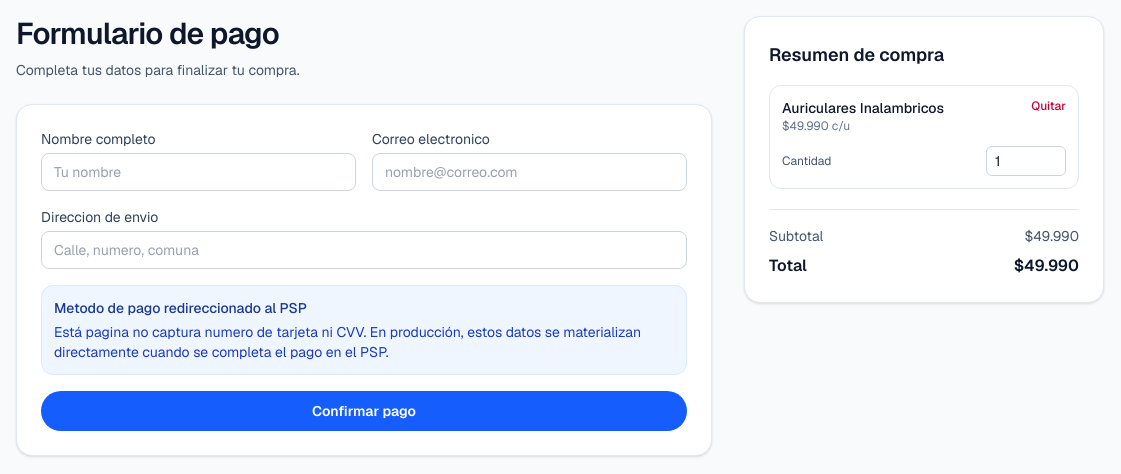
Test case: Checkout quantity input behavior › muestra total validado por servidor y limpia carrito tras confirmar pago
Type "Ada Lovelace" into the field labelled "Nombre completo".
click(198, 172); type("Ada Lovelace")  # box [41,153,356,191]
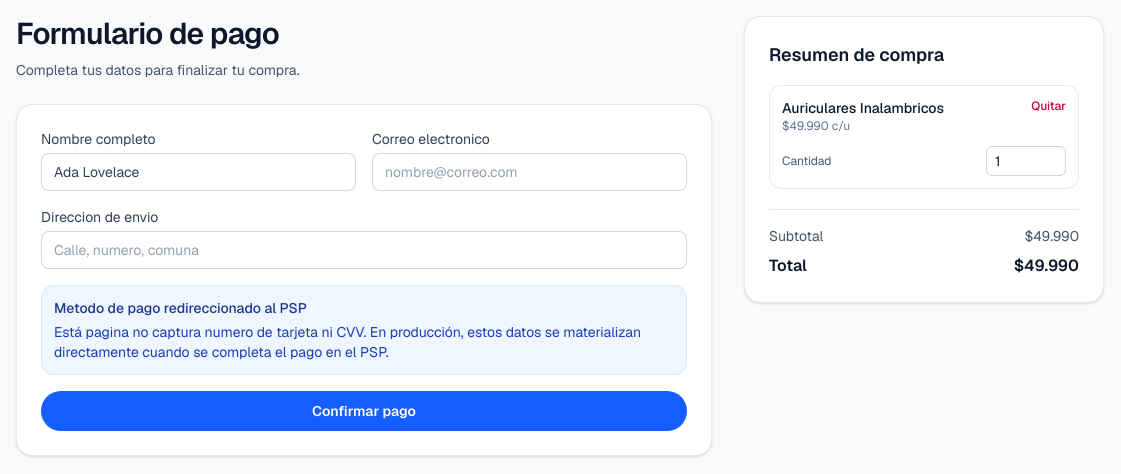
Type "ada@example.com" into the field labelled "Correo electronico".
click(530, 172); type("ada@example.com")  # box [372,153,687,191]
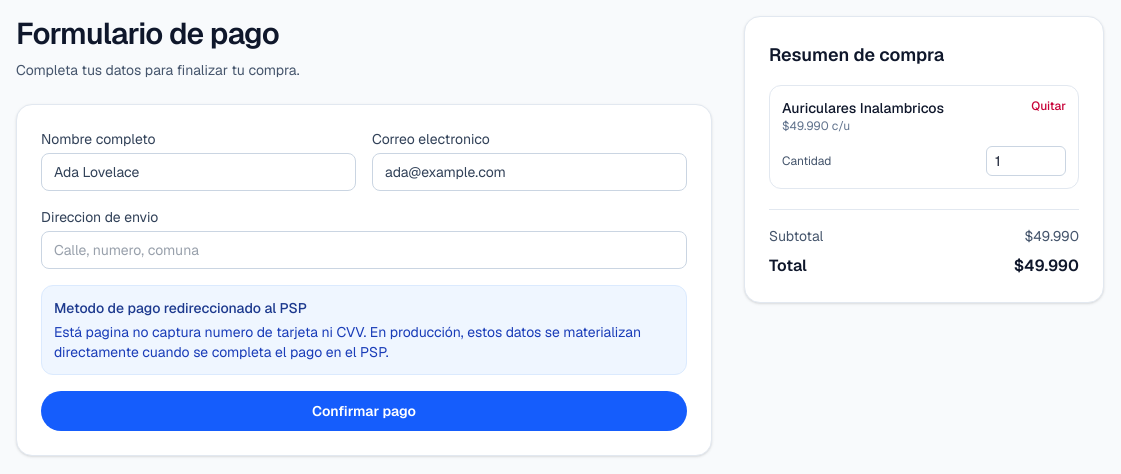
Type "Av. Siempre Viva 123" into the field labelled "Direccion de envio".
click(364, 250); type("Av. Siempre Viva 123")  # box [41,231,687,269]
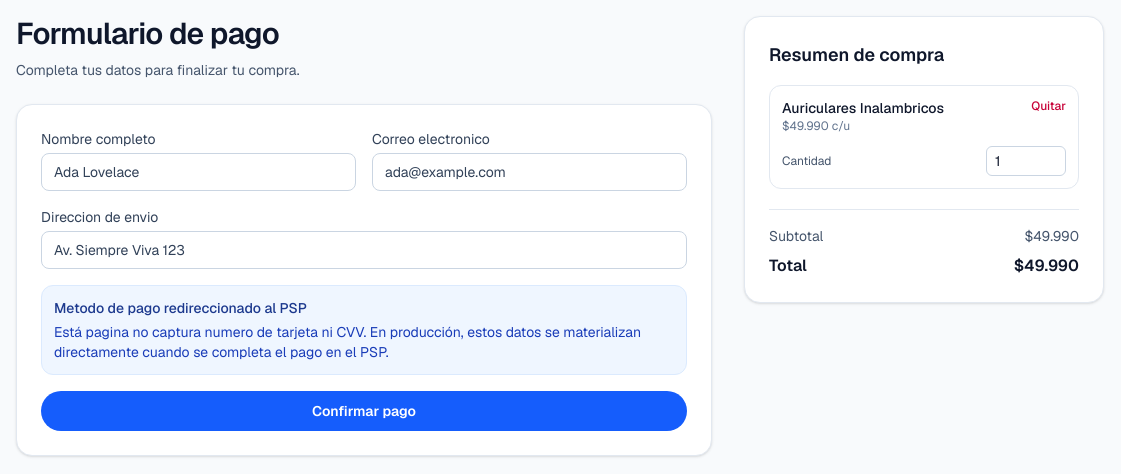
Click the button "Confirmar pago".
click(364, 411)  # box [41,391,687,431]
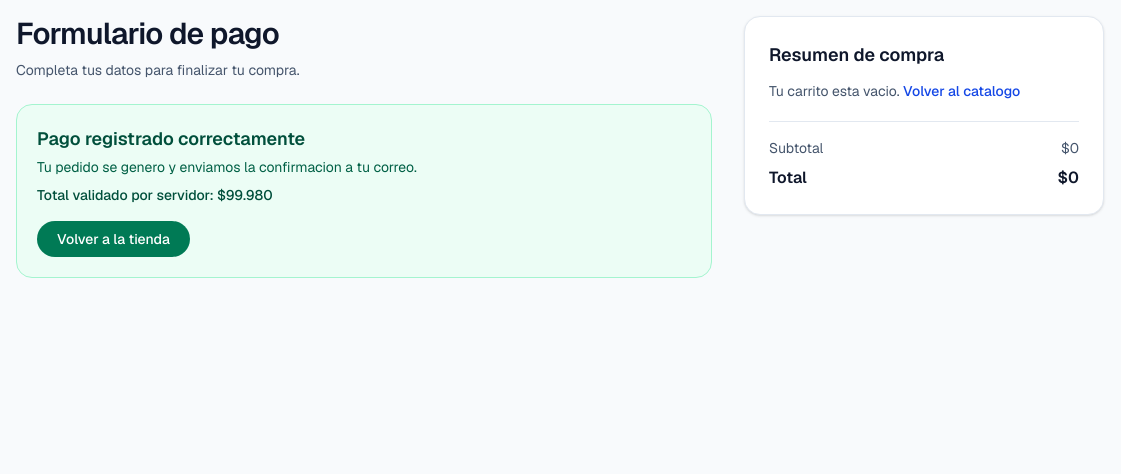
Check: the text "Total validado por servidor: $99.980" is shown, box [37,186,273,204]
Check: the text "Tu carrito esta vacio. Volver al catalogo" is shown, box [769,82,1020,100]
